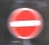No entry: (5, 6, 44, 40)
